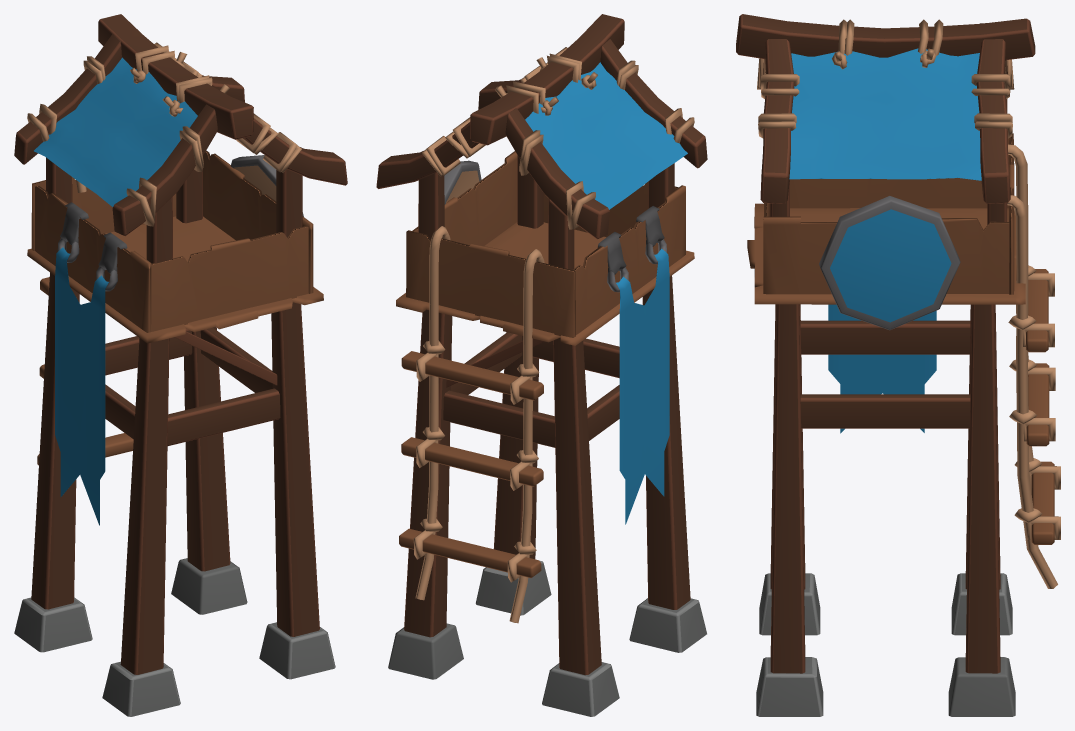
File: WatchTower_2.fbx
The picture shows the model from 3 angles, left to right: view 1: azimuth 30°, elevation 25°; view 2: azimuth 150°, elevation 25°; view 3: azimuth 270°, elevation 25°; orthographic projection. The views are drawn at different scales.
Visible parts, largest first — view 1: WatchTower_2; view 2: WatchTower_2; view 3: WatchTower_2.
Boxes of the visible parts, box(x1,y1,x2,y2) form: WatchTower_2: box(14, 14, 347, 716); WatchTower_2: box(376, 14, 707, 716); WatchTower_2: box(736, 14, 1060, 716).
Size of the model in its own units: 123 by 309 by 142.
